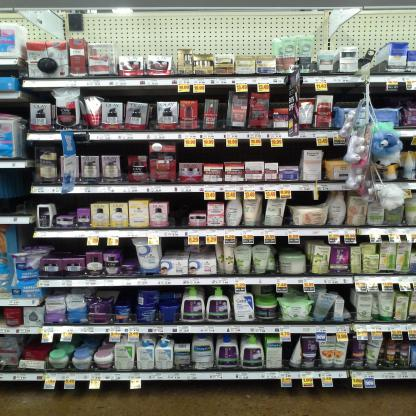Void: (16, 170, 29, 213), (170, 192, 186, 226), (340, 86, 360, 106), (50, 241, 81, 253), (376, 90, 394, 106), (192, 197, 206, 214), (164, 238, 182, 251), (60, 195, 72, 214), (119, 245, 134, 259), (327, 146, 345, 157), (282, 243, 301, 252)
